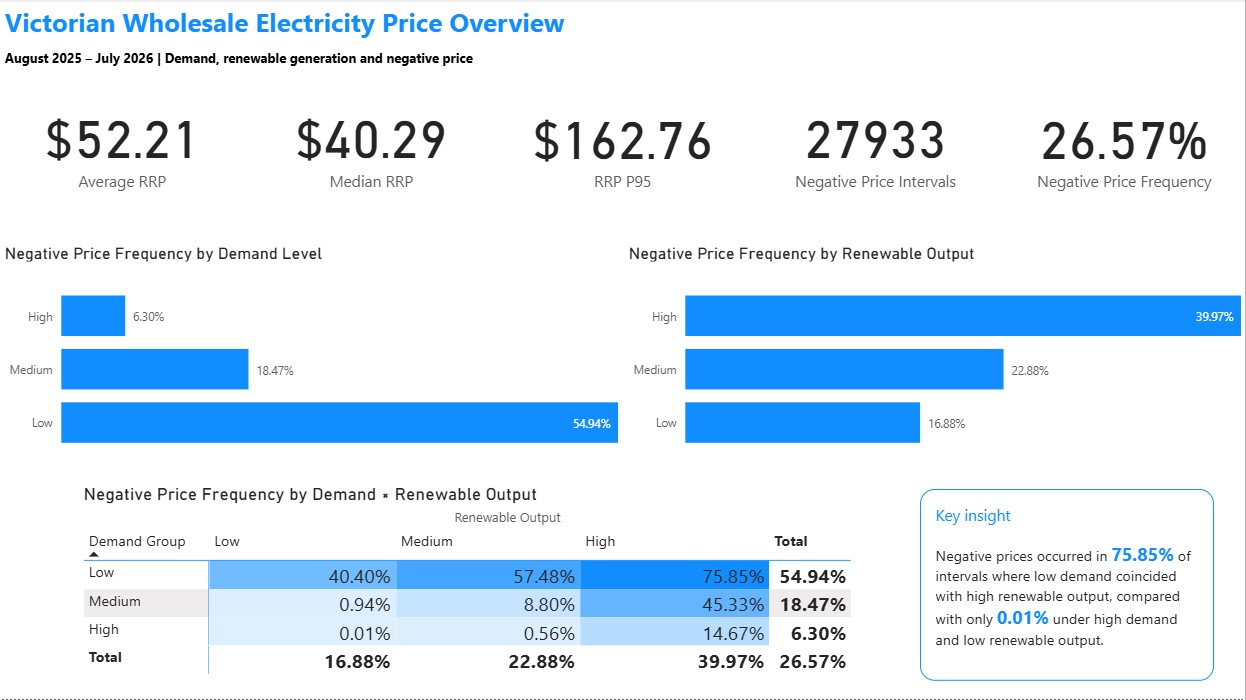

What the dashboard file says about the page in this screenshot:
{"tool":"powerbi","page":{"name":"Key Measures","canvas":[1280,720],"ordinal":0},"visuals":[{"type":"card","fields":{"Values":["final_market_dataset.Average RRP"]},"box":[0,67.5,251,161],"z":0},{"type":"card","fields":{"Values":["final_market_dataset.Median RRP"]},"box":[241.1,78.3,279.7,140.3],"z":1000},{"type":"card","fields":{"Values":["final_market_dataset.RRP P95"]},"box":[510.9,67.5,258.2,161.9],"z":2000},{"type":"card","fields":{"Values":["final_market_dataset.Negative Price Intervals"]},"box":[769.1,78.3,260,140.3],"z":3000},{"type":"card","fields":{"Values":["final_market_dataset.Negative Price %"]},"box":[1029,68.4,251,159.2],"z":4000},{"type":"barChart","title":"Negative Price Frequency by Demand Level","fields":{"Category":["final_market_dataset.Demand Group"],"Y":["final_market_dataset.Negative Price Percentage"]},"box":[0,251,640.5,234.5],"z":5000},{"type":"barChart","title":"Negative Price Frequency by Renewable Output","fields":{"Y":["final_market_dataset.Negative Price Percentage"],"Category":["final_market_dataset.Renewable Group"]},"box":[640.5,251,639.5,234.5],"z":6000},{"type":"pivotTable","title":"Negative Price Frequency by Demand × Renewable Output","fields":{"Rows":["final_market_dataset.Demand Group"],"Columns":["final_market_dataset.Renewable Group"],"Values":["final_market_dataset.Negative Price %"]},"box":[80.7,497.2,880.5,207.8],"z":7000},{"type":"textbox","box":[0,0,1280,47.5],"z":8000},{"type":"textbox","box":[0,47.5,1280,28.9],"z":9000},{"type":"textbox","box":[945.1,502.9,301.7,197.4],"z":10000}]}

Visuals, with their boxes in screenshot pixels (x1, y1, x2, y2), scaled from the page's 1280x720 canvas onto the 1246x700 screenshot:
card - final_market_dataset.Average RRP: detection(0, 66, 244, 222)
card - final_market_dataset.Median RRP: detection(235, 76, 507, 213)
card - final_market_dataset.RRP P95: detection(497, 66, 749, 223)
card - final_market_dataset.Negative Price Intervals: detection(749, 76, 1002, 213)
card - final_market_dataset.Negative Price %: detection(1002, 66, 1245, 221)
"Negative Price Frequency by Demand Level" barChart: detection(0, 244, 623, 472)
"Negative Price Frequency by Renewable Output" barChart: detection(623, 244, 1245, 472)
"Negative Price Frequency by Demand × Renewable Output" pivotTable: detection(79, 483, 936, 685)
textbox: detection(0, 0, 1245, 46)
textbox: detection(0, 46, 1245, 74)
textbox: detection(920, 489, 1214, 681)
